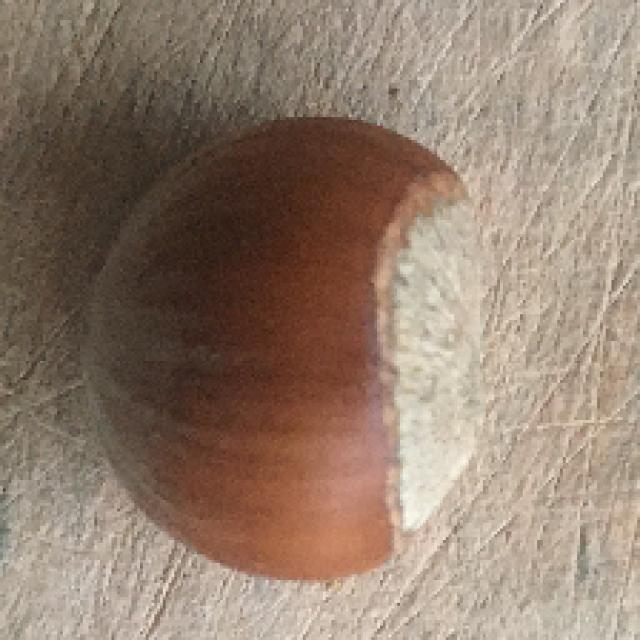qualityHazelnut: (72, 107, 496, 583)
